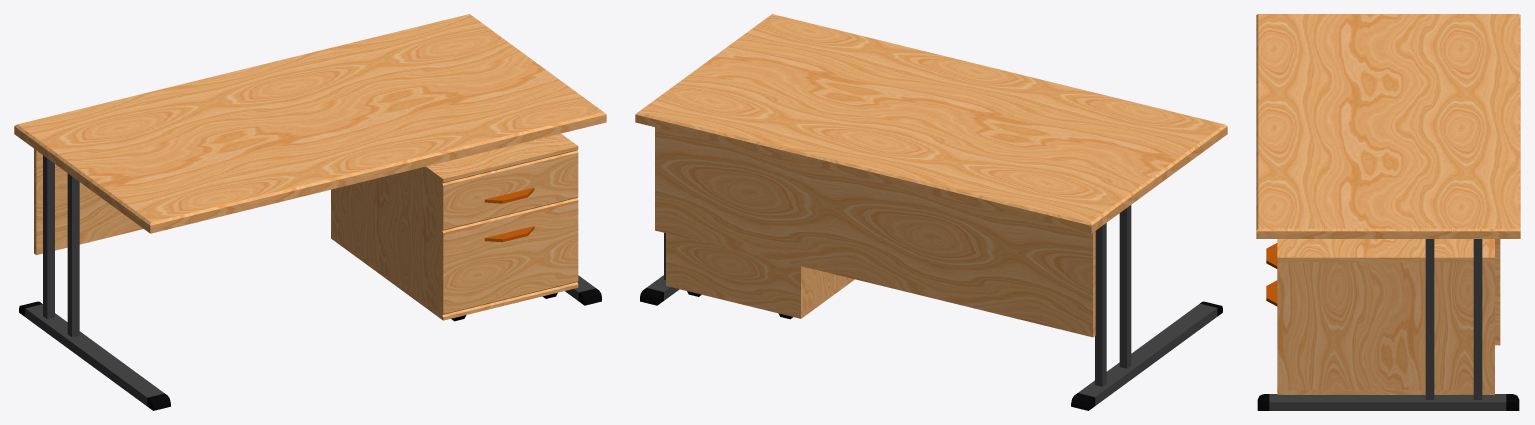
The model's file is desk.obj.
3 renders of one model, left to right at view 1: azimuth 30°, elevation 25°; view 2: azimuth 150°, elevation 25°; view 3: azimuth 270°, elevation 25°, orthographic. The views are drawn at different scales.
Parts seen in each view (by area): view 1: desk; view 2: desk; view 3: desk.
Part boxes in pixels (bbox=[...]): desk: bbox=[14, 14, 606, 410]; desk: bbox=[635, 14, 1227, 410]; desk: bbox=[1256, 14, 1520, 410].
Size of the model in its own units: 3.07 by 1.22 by 1.59.
Materials: 4 (1 with a texture image).
